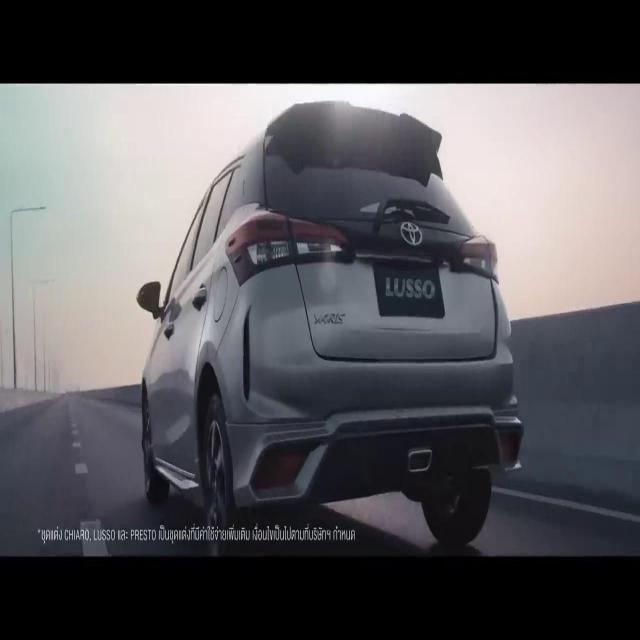Hatchback: (137, 101, 524, 548)
